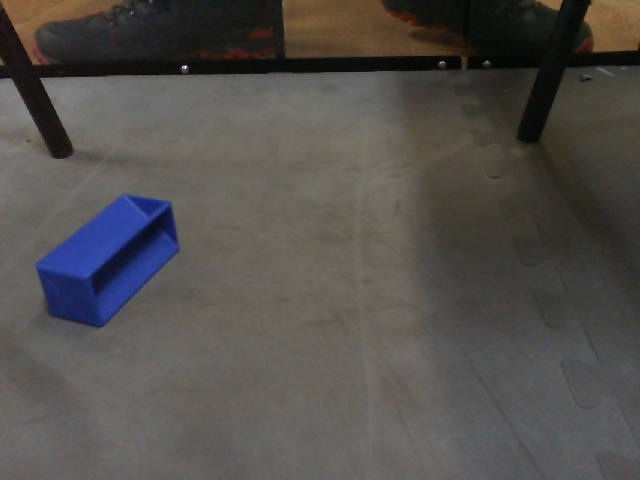BlueSample: (34, 192, 182, 335)
